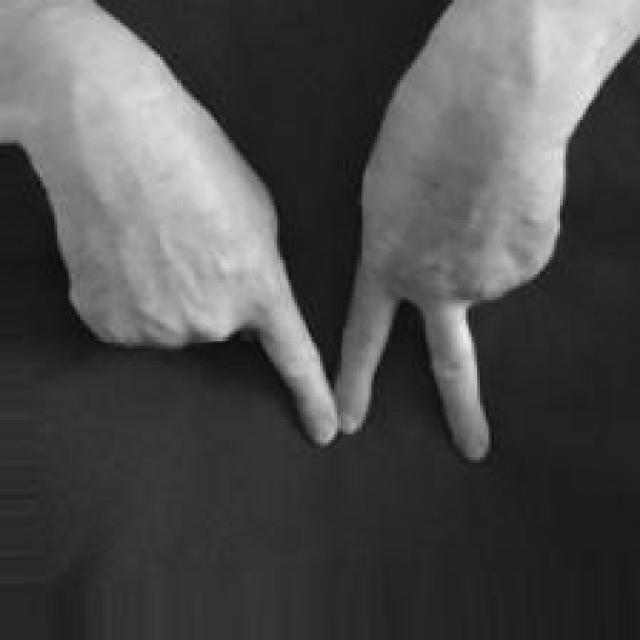N: (45, 71, 565, 474)
